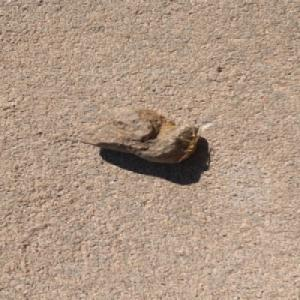Rock: (77, 107, 199, 164)
